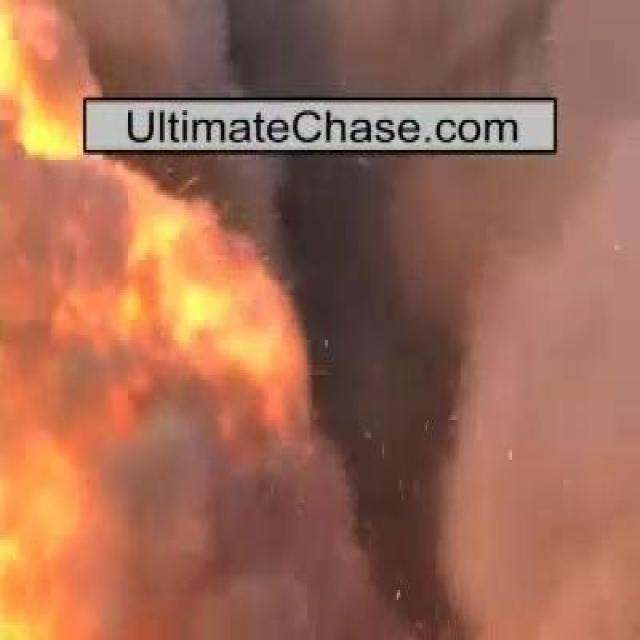Smoke: (31, 159, 569, 579)
